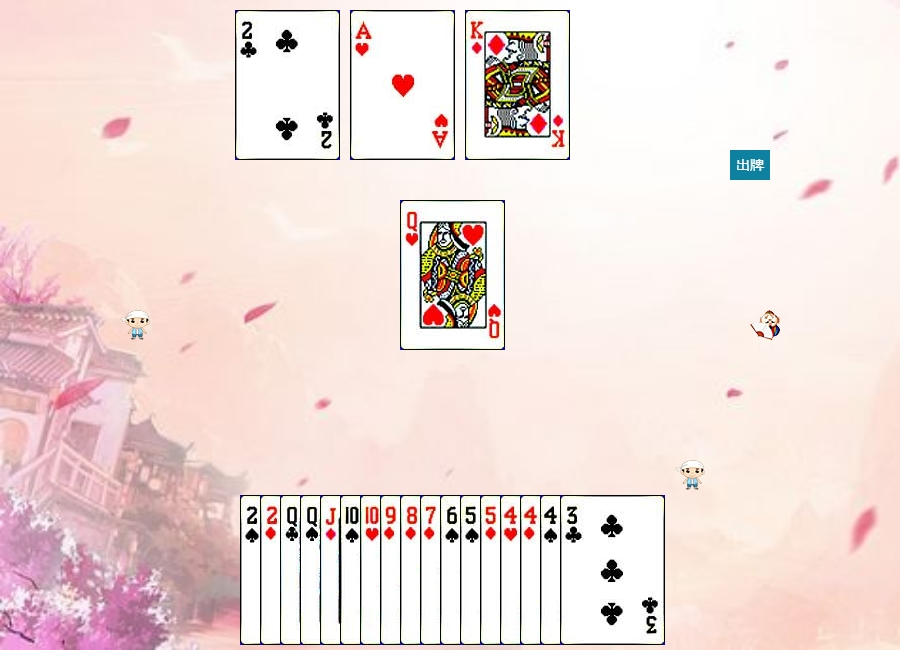10~3: (360, 495, 465, 645)
10~4: (340, 495, 445, 645)
11~1: (320, 495, 425, 645)
12~2: (280, 495, 385, 645)
12~3: (400, 200, 505, 350)
12~4: (300, 495, 405, 645)
13~1: (465, 10, 570, 160)
14~3: (350, 10, 455, 160)
15~1: (260, 495, 365, 645)
15~2: (235, 10, 340, 160)
15~4: (240, 495, 345, 645)
3~2: (560, 495, 665, 645)
4~1: (520, 495, 625, 645)
4~3: (500, 495, 605, 645)
4~4: (540, 495, 645, 645)
5~1: (480, 495, 585, 645)
5~4: (460, 495, 565, 645)
6~4: (440, 495, 545, 645)
7~1: (420, 495, 525, 645)
8~1: (400, 495, 505, 645)
9~1: (380, 495, 485, 645)
